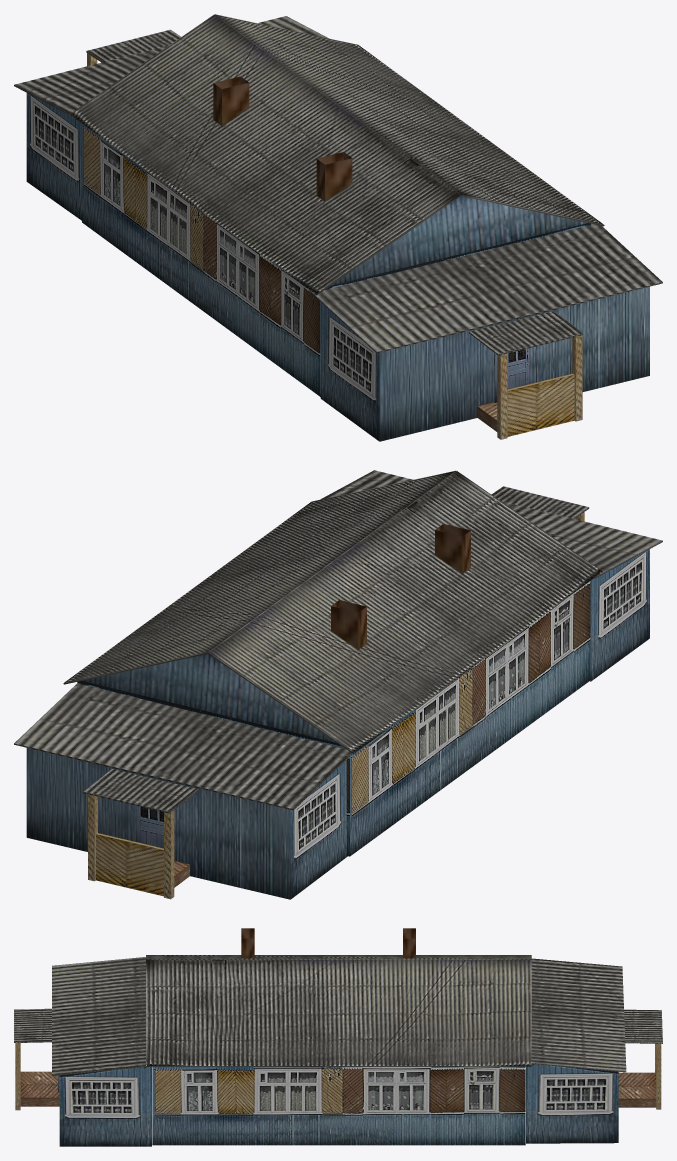
Rendered from Village house 4.fbx.
3 views of the same model, one above another, from view 1: azimuth 30°, elevation 25°; view 2: azimuth 150°, elevation 25°; view 3: azimuth 270°, elevation 25° (orthographic). The views are drawn at different scales.
Visible parts, largest first — view 1: Box02; view 2: Box02; view 3: Box02.
Part boxes in pixels (x1,y1,x2,y2): Box02: (14,14,662,441); Box02: (14,470,662,899); Box02: (14,928,662,1146).
Size of the model in its own units: 10.99 by 6.44 by 27.32.
Materials: 1 (1 with a texture image).
